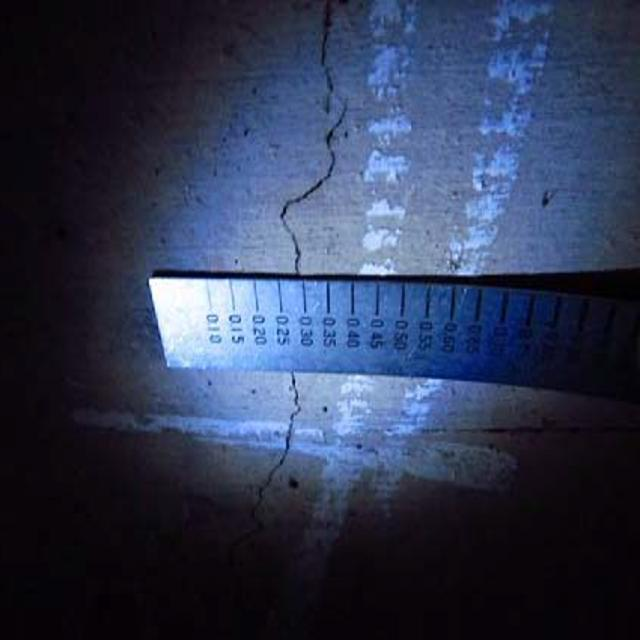crack: (273, 6, 343, 280), (253, 372, 323, 547)
